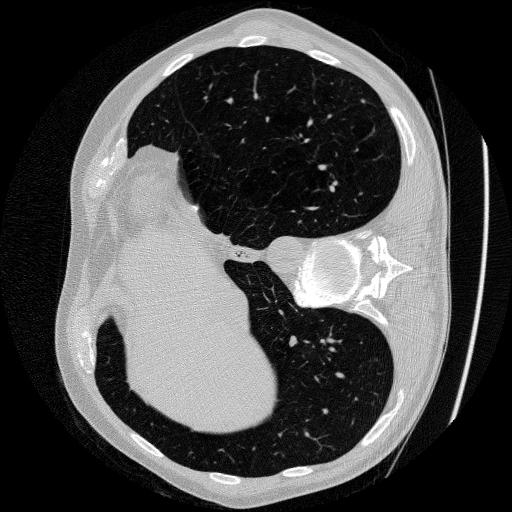nodule: (286, 334, 302, 350)
